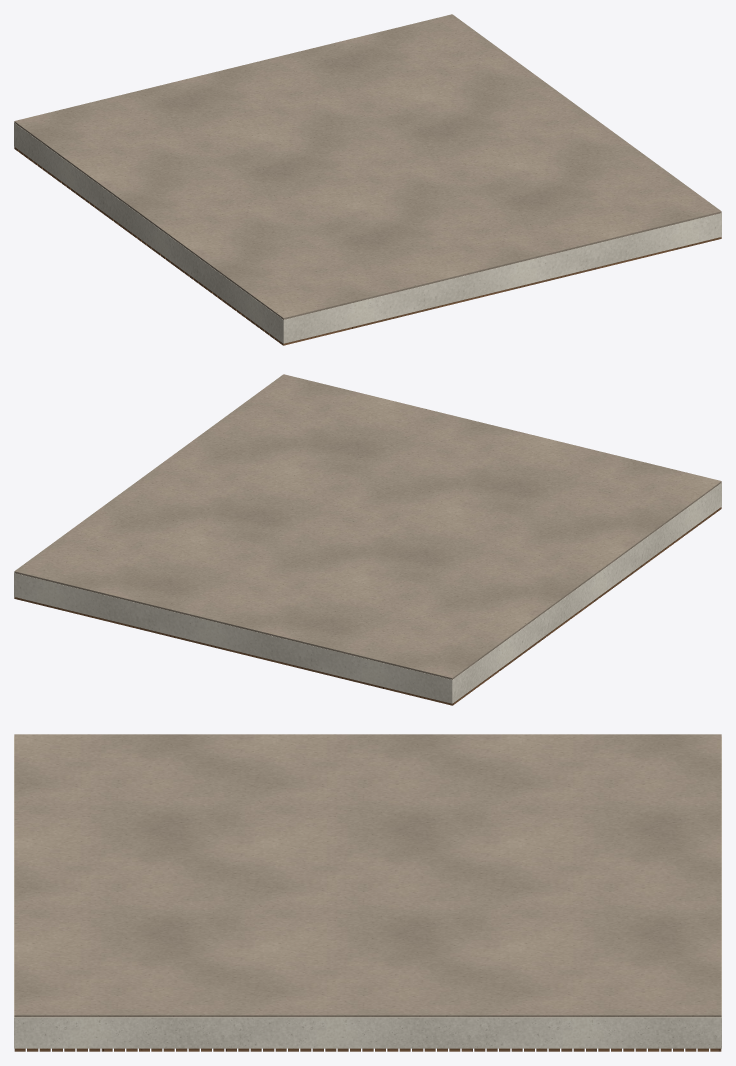
The model's file is c_roof_mid.glb.
The picture shows the model from 3 angles, top to bottom: view 1: azimuth 30°, elevation 25°; view 2: azimuth 150°, elevation 25°; view 3: azimuth 270°, elevation 25°; orthographic projection. The views are drawn at different scales.
Visible parts, largest first — view 1: c_roof_mid_roofdeck, c_roof_mid_plaster, c_roof_mid_planks; view 2: c_roof_mid_roofdeck, c_roof_mid_plaster, c_roof_mid_planks; view 3: c_roof_mid_roofdeck, c_roof_mid_plaster, c_roof_mid_planks.
Part boxes in pixels (x1=…): c_roof_mid_roofdeck: x1=14, y1=14, x2=721, y2=319; c_roof_mid_plaster: x1=14, y1=123, x2=721, y2=343; c_roof_mid_planks: x1=14, y1=147, x2=721, y2=345; c_roof_mid_roofdeck: x1=14, y1=374, x2=721, y2=679; c_roof_mid_plaster: x1=14, y1=483, x2=721, y2=703; c_roof_mid_planks: x1=14, y1=507, x2=721, y2=705; c_roof_mid_roofdeck: x1=14, y1=734, x2=721, y2=1017; c_roof_mid_plaster: x1=14, y1=737, x2=721, y2=1048; c_roof_mid_planks: x1=14, y1=1048, x2=721, y2=1051.
Bounding box in the file's own units: 5.4 × 0.325 × 5.75.
3 materials, 3 textured.
